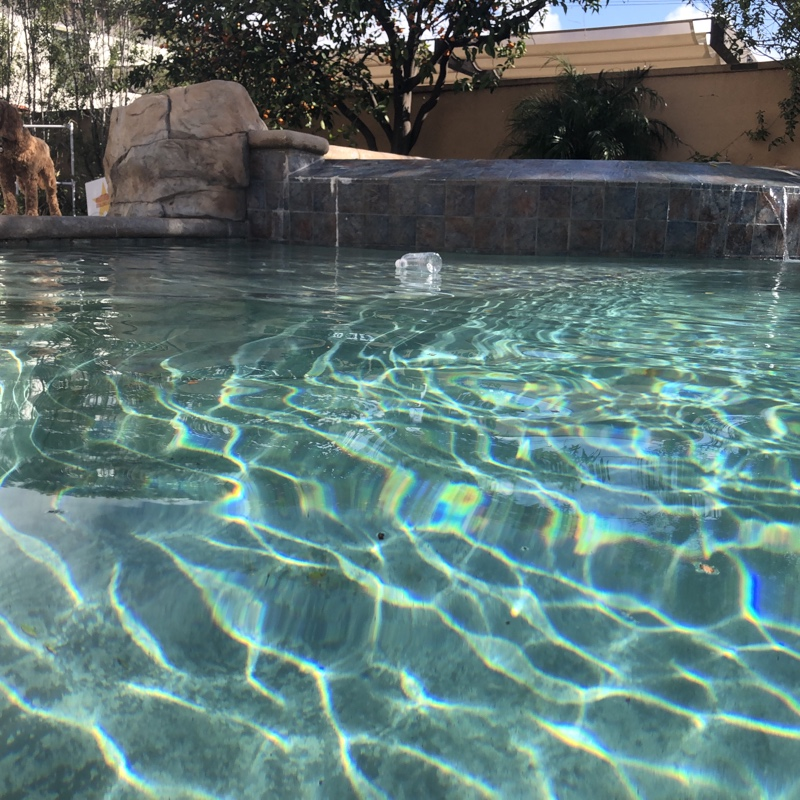Plastic Bottle: (392, 251, 440, 275)
